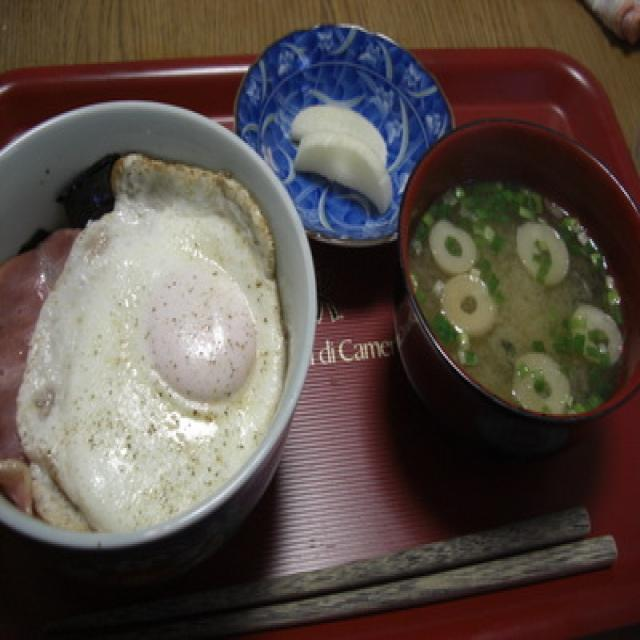汤锅炖物: (392, 124, 632, 501)
鸡蛋料理: (35, 160, 283, 535)
